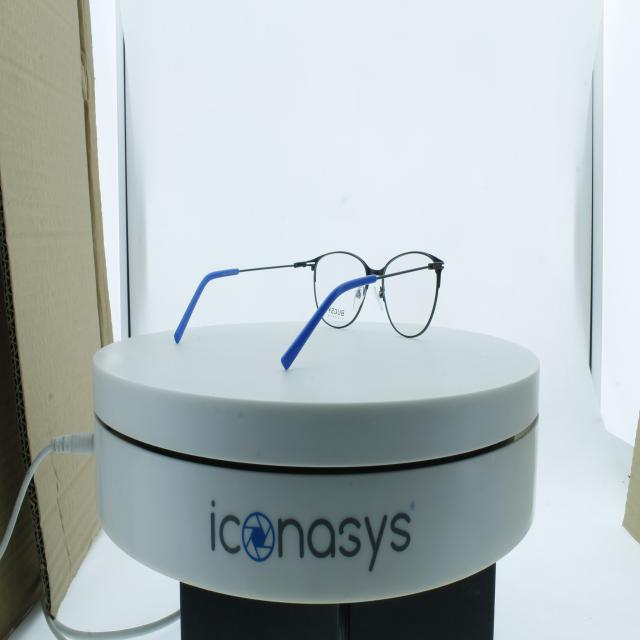Specs: (163, 232, 454, 384)
